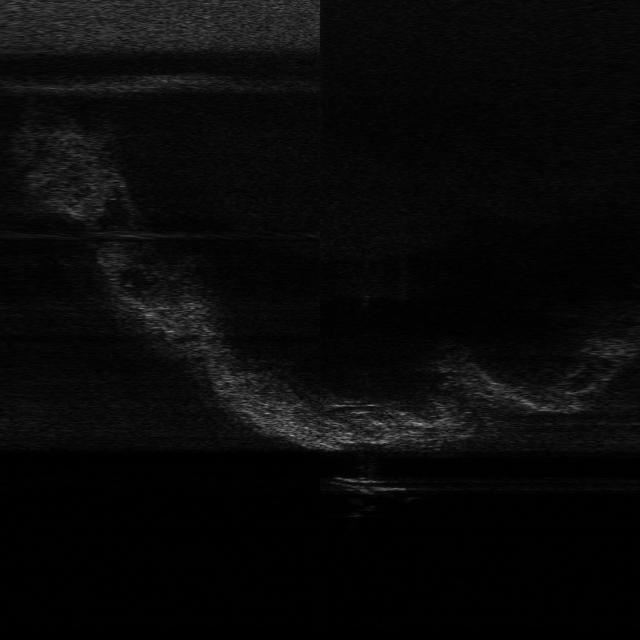plane: (330, 473, 410, 498)
